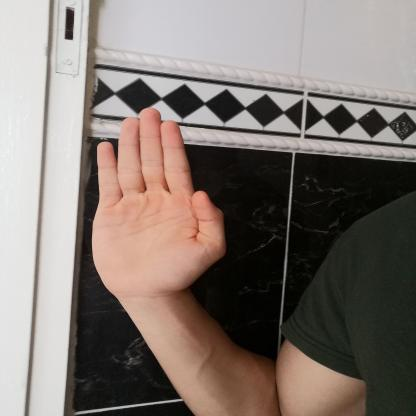SEEN: (80, 100, 238, 308)
